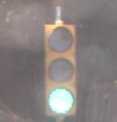Green: (40, 17, 84, 119)
